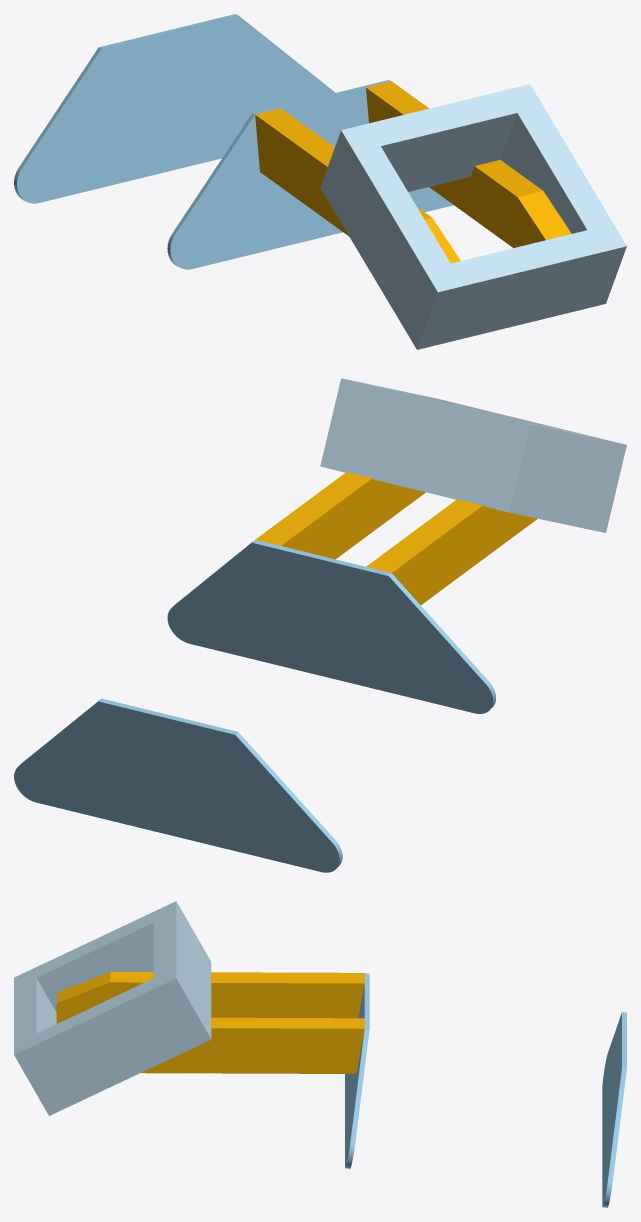
File: Gripper.glb
3 renders of one model, top to bottom at view 1: azimuth 30°, elevation 25°; view 2: azimuth 150°, elevation 25°; view 3: azimuth 270°, elevation 25°, orthographic. The views are drawn at different scales.
Parts seen in each view (by area): view 1: Part 20 (×2), Part 7, Part 19 (×2); view 2: Part 20 (×2), Part 7, Part 19 (×2); view 3: Part 7, Part 19 (×2), Part 20 (×2).
Boxes of the visible parts, x1=… form: Part 20 (×2): x1=14, y1=14, x2=453, y2=269; Part 7: x1=320, y1=84, x2=626, y2=349; Part 19 (×2): x1=255, y1=81, x2=571, y2=263; Part 20 (×2): x1=14, y1=540, x2=495, y2=872; Part 7: x1=320, y1=378, x2=626, y2=532; Part 19 (×2): x1=255, y1=472, x2=537, y2=604; Part 7: x1=14, y1=901, x2=211, y2=1115; Part 19 (×2): x1=56, y1=972, x2=364, y2=1073; Part 20 (×2): x1=345, y1=973, x2=626, y2=1207.
Bounding box in the file's own units: 0.3156 × 0.2298 × 0.6138.
